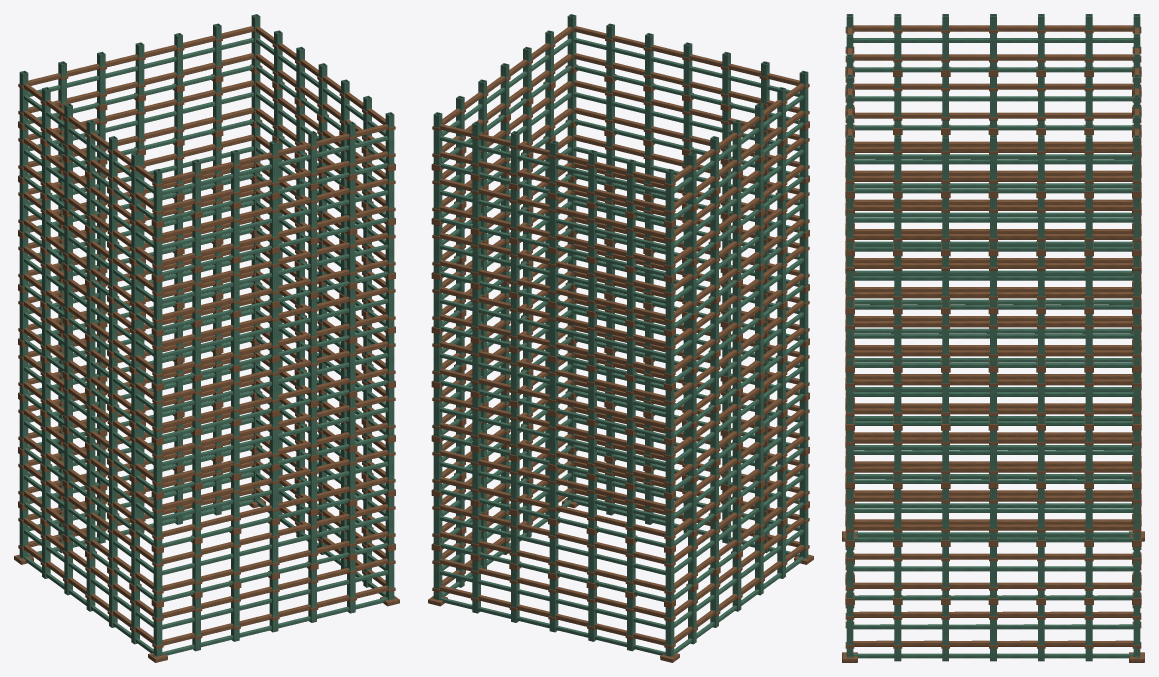
3 views of the same model, side by side, from view 1: azimuth 30°, elevation 25°; view 2: azimuth 150°, elevation 25°; view 3: azimuth 270°, elevation 25° (orthographic). The views are drawn at different scales.
Bounding box in the file's own units: 2.85 × 5.43 × 2.85.
Materials: 2 (2 with a texture image).
